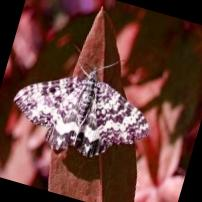butterfly: (13, 72, 149, 156)
